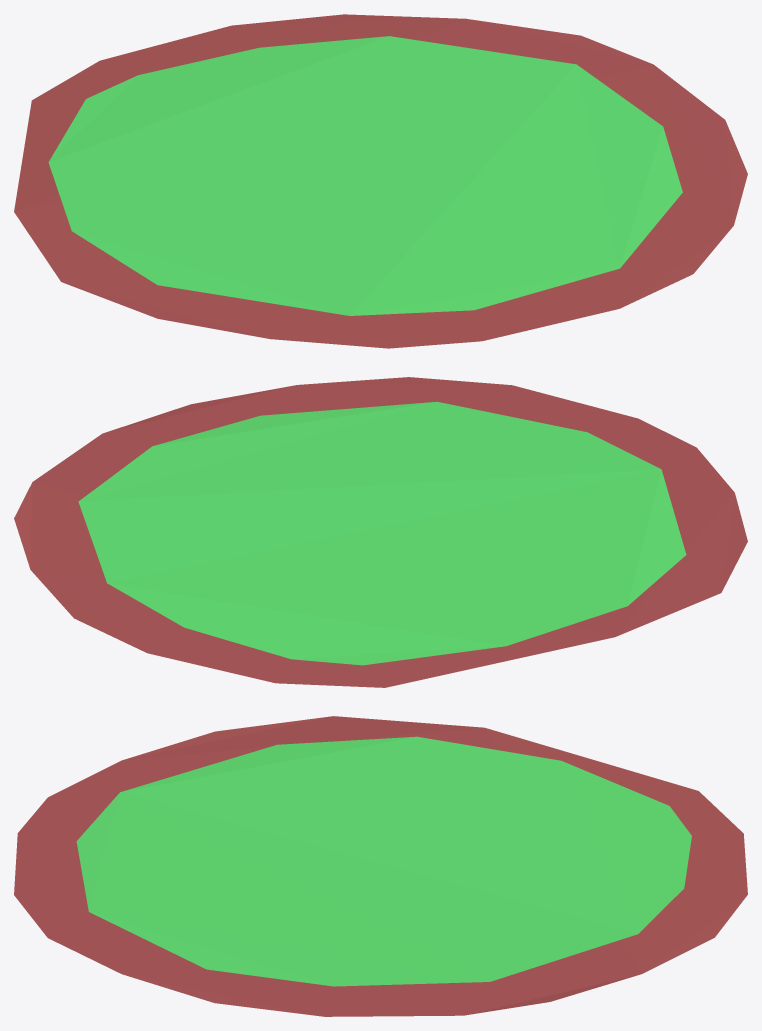
File: ground_01.fbx
The picture shows the model from 3 angles, top to bottom: view 1: azimuth 30°, elevation 25°; view 2: azimuth 150°, elevation 25°; view 3: azimuth 270°, elevation 25°; orthographic projection. The views are drawn at different scales.
Visible parts, largest first — view 1: Plane.004; view 2: Plane.004; view 3: Plane.004.
Part boxes in pixels (x1,y1,x2,y2): Plane.004: (14, 14, 747, 348); Plane.004: (14, 377, 747, 687); Plane.004: (14, 716, 747, 1016).
Size of the model in its own units: 141 by 2.3 by 143.
